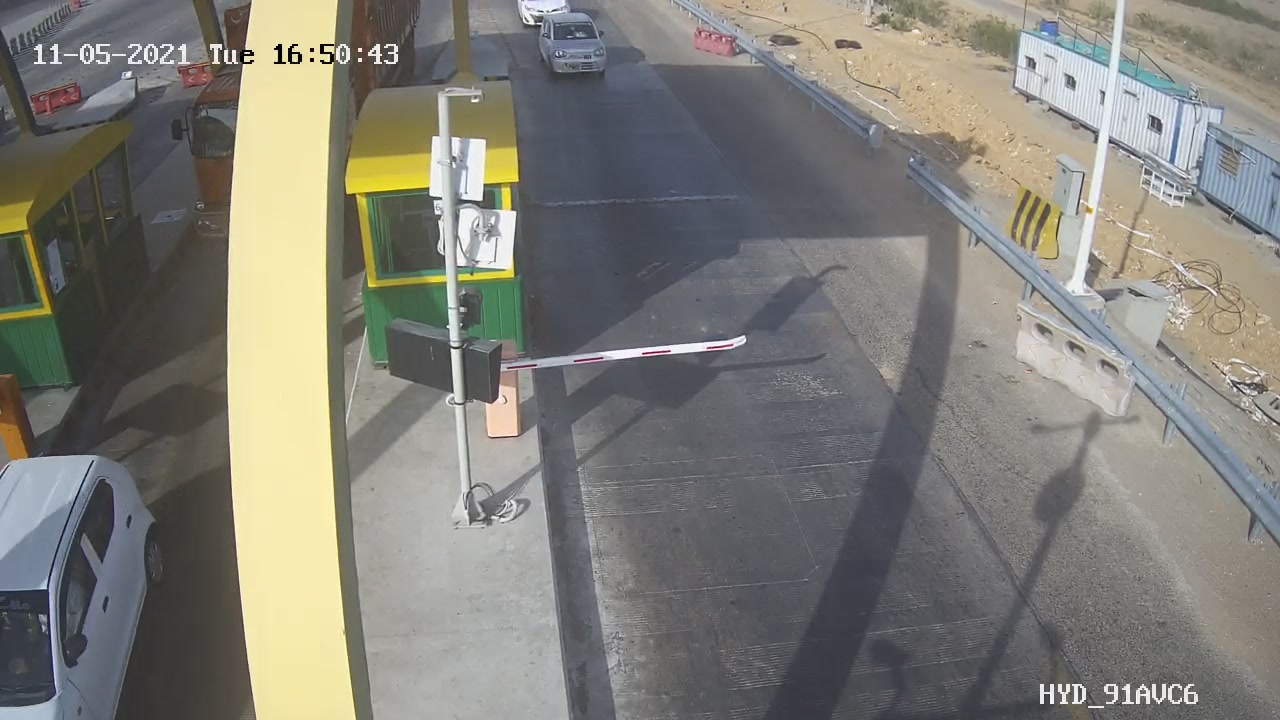F1: (529, 5, 620, 88)
